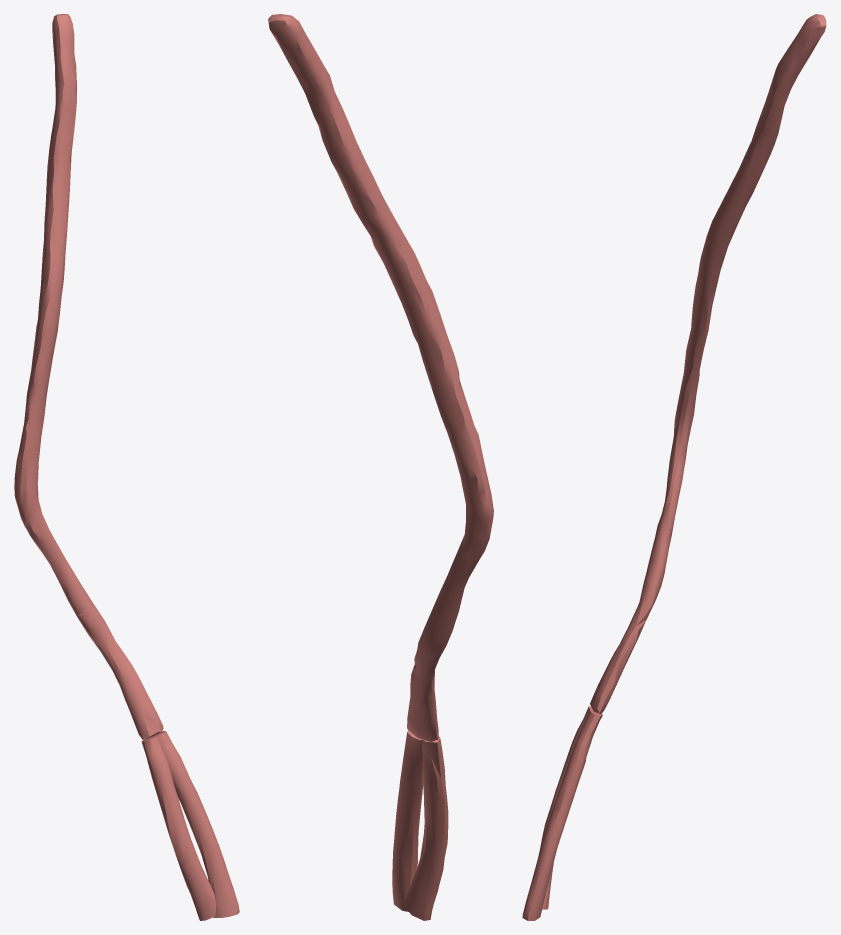
File: fma42559_mm1967.glb
3 views of the same model, side by side, from view 1: azimuth 30°, elevation 25°; view 2: azimuth 150°, elevation 25°; view 3: azimuth 270°, elevation 25° (orthographic). The views are drawn at different scales.
Visible parts, largest first — view 1: FMA42559_MM1967; view 2: FMA42559_MM1967; view 3: FMA42559_MM1967.
Boxes of the visible parts, <box> form: FMA42559_MM1967: <box>14,14,239,920</box>; FMA42559_MM1967: <box>268,14,493,920</box>; FMA42559_MM1967: <box>522,14,826,920</box>.
Size of the model in its own units: 0.0342 by 0.1766 by 0.0549.
